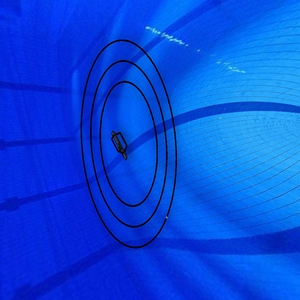circle: (76, 37, 183, 251)
submarine: (109, 129, 130, 161)
